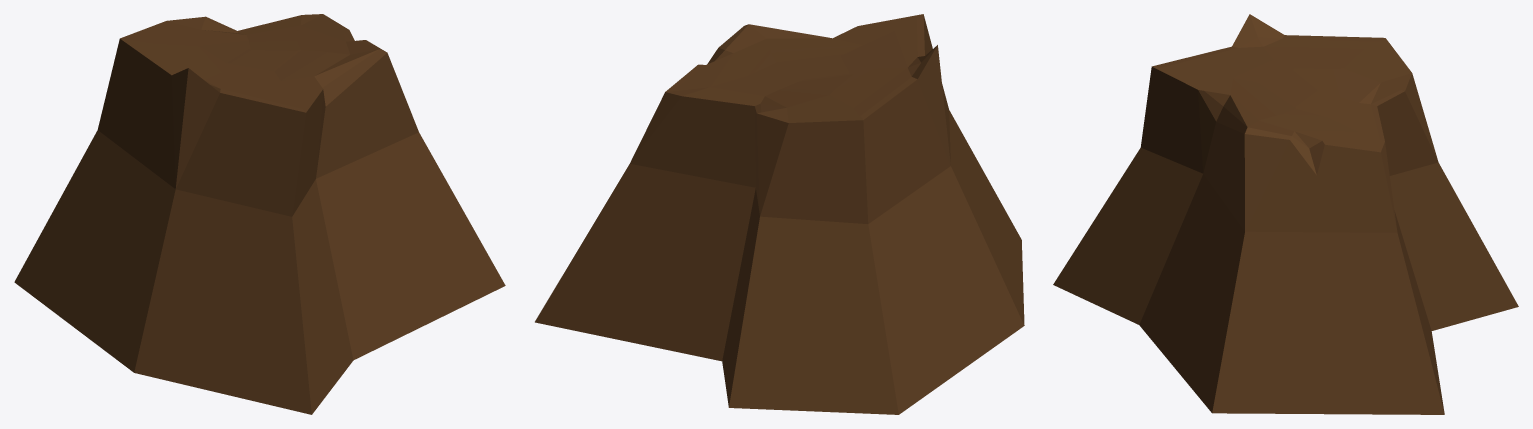
Rendered from tree-pine-stump-a.gltf.
The picture shows the model from 3 angles, left to right: view 1: azimuth 30°, elevation 25°; view 2: azimuth 150°, elevation 25°; view 3: azimuth 270°, elevation 25°; orthographic projection. The views are drawn at different scales.
Visible parts, largest first — view 1: tree-pine-stump-a; view 2: tree-pine-stump-a; view 3: tree-pine-stump-a.
Part boxes in pixels (left/top/right/bottom): tree-pine-stump-a: left=14, top=14, right=505, bottom=414; tree-pine-stump-a: left=535, top=14, right=1024, bottom=414; tree-pine-stump-a: left=1053, top=14, right=1518, bottom=414.
Size of the model in its own units: 0.00881 by 0.00626 by 0.0101.
